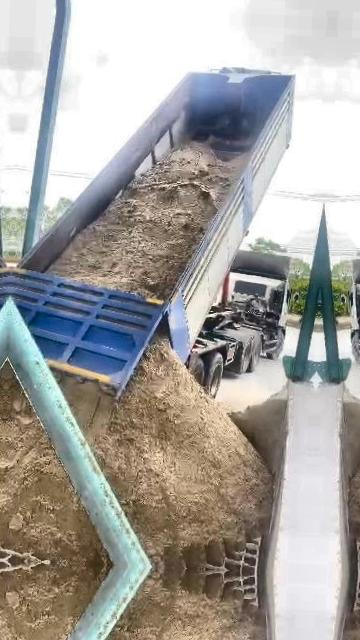sand: (60, 336, 271, 568), (49, 143, 245, 299), (0, 365, 104, 564), (230, 389, 286, 472), (0, 547, 49, 562)
